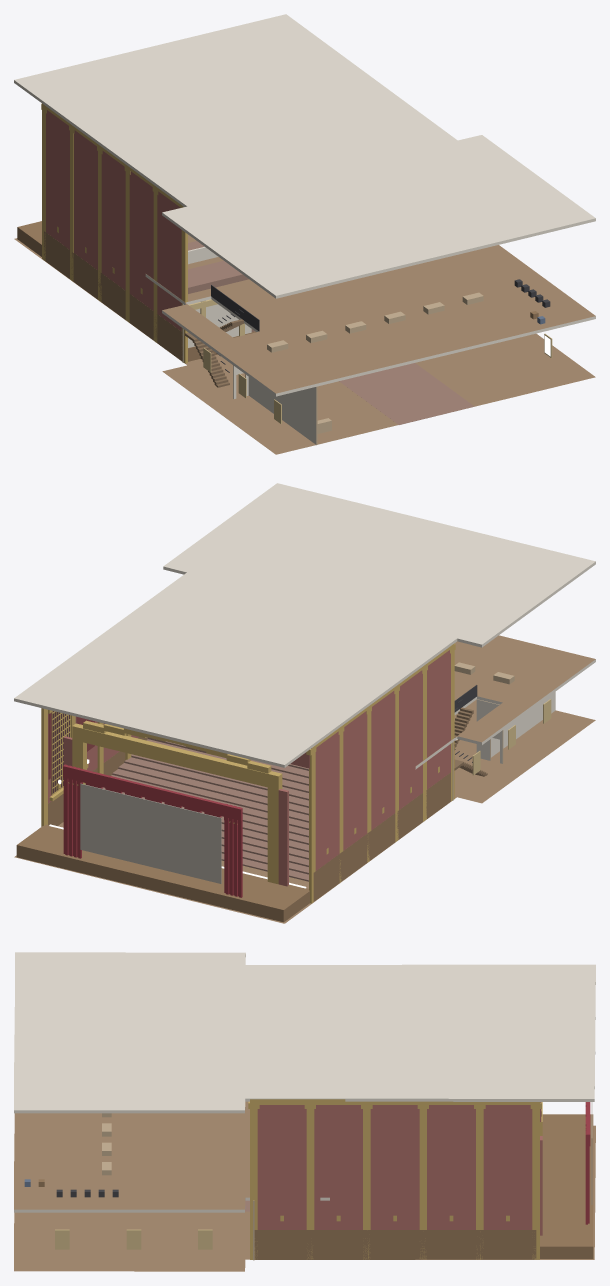
File: interior.glb
3 views of the same model, one above another, from view 1: azimuth 30°, elevation 25°; view 2: azimuth 150°, elevation 25°; view 3: azimuth 270°, elevation 25° (orthographic).
Visible parts, largest first — view 1: slabs, auditorium-dress, lobby-carpet, partitions, coarse-s1, auditorium-balcony, stair, lobby-dress, auditorium-wall, auditorium; view 2: slabs, auditorium-dress, auditorium, partitions, stair; view 3: slabs, auditorium-dress, auditorium, lobby-dress, coarse-s1.
Boxes of the visible parts, x1,y1,x2,y2 form: slabs: (14,14,595,454); auditorium-dress: (41,103,187,363); lobby-carpet: (339,363,474,424); partitions: (233,365,317,445); coarse-s1: (267,279,550,352); auditorium-balcony: (188,246,248,293); stair: (185,285,259,387); lobby-dress: (188,299,552,447); auditorium-wall: (182,304,251,362); auditorium: (17,221,254,331); slabs: (14,483,595,923); auditorium-dress: (41,643,455,903); auditorium: (16,737,309,922); partitions: (476,692,555,763); stair: (454,685,487,776); slabs: (14,952,595,1271); auditorium-dress: (248,1099,542,1259); auditorium: (540,1102,593,1258); lobby-dress: (55,1229,212,1249); coarse-s1: (24,1113,118,1197).
Bounding box in the file's own units: 29.42 × 14 × 45.79.
